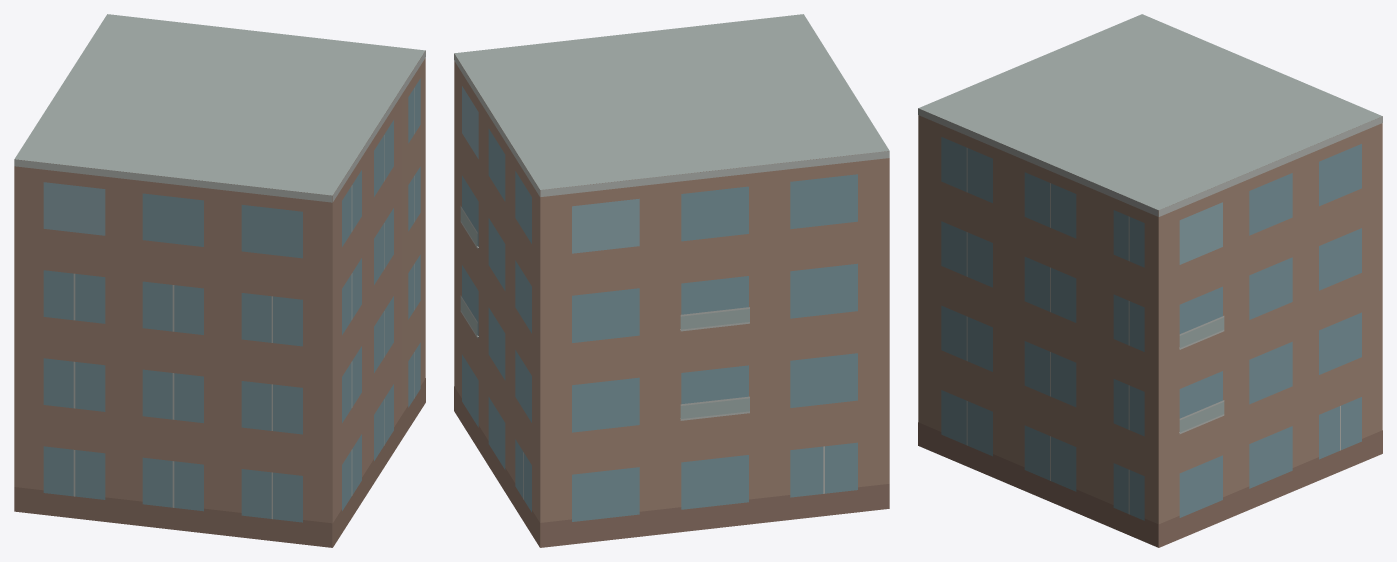
The model's file is residential-4c74eb45-8b8f-4c59-a5b6-02d54fa567bb.glb.
3 renders of one model, left to right at view 1: azimuth 30°, elevation 25°; view 2: azimuth 150°, elevation 25°; view 3: azimuth 270°, elevation 25°, orthographic. The views are drawn at different scales.
Parts seen in each view (by area): view 1: residential-4c74eb45-8b8f-4c59-a5b6-02d54fa567bb.tmp; view 2: residential-4c74eb45-8b8f-4c59-a5b6-02d54fa567bb.tmp; view 3: residential-4c74eb45-8b8f-4c59-a5b6-02d54fa567bb.tmp.
Boxes of the visible parts, bbox=[...] form: residential-4c74eb45-8b8f-4c59-a5b6-02d54fa567bb.tmp: bbox=[14, 14, 425, 547]; residential-4c74eb45-8b8f-4c59-a5b6-02d54fa567bb.tmp: bbox=[454, 14, 889, 547]; residential-4c74eb45-8b8f-4c59-a5b6-02d54fa567bb.tmp: bbox=[918, 14, 1382, 547].
Bounding box in the file's own units: 15.23 × 12.2 × 15.23.
